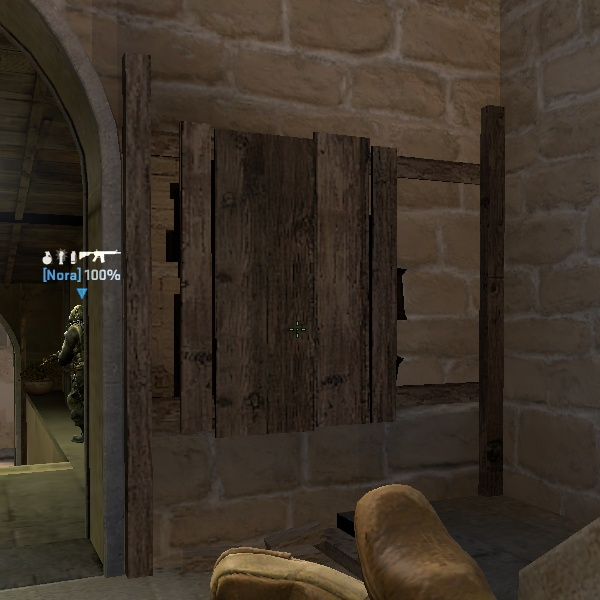ct_body: (32, 300, 90, 448)
ct_head: (65, 299, 90, 335)
